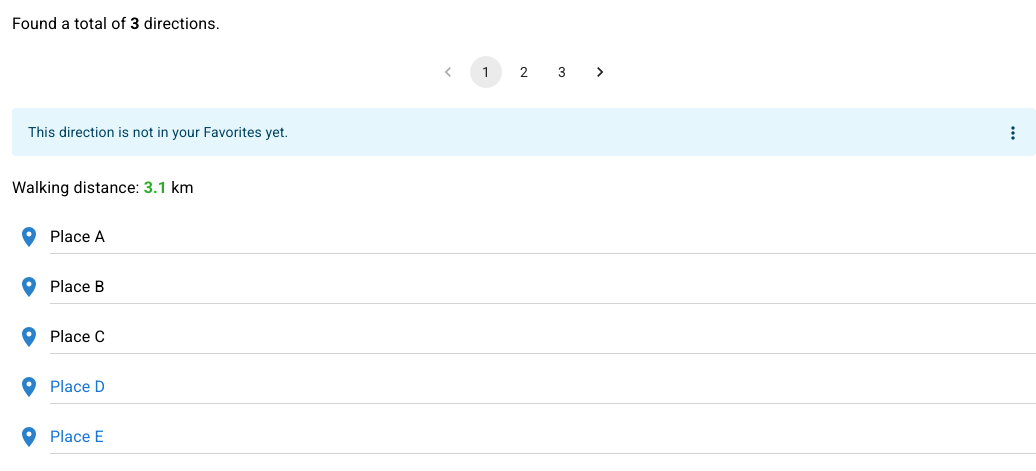
Test case: <ResultDirecsContent /> › control menu has only Save option
This screenshot has width=1036, height=471.
Click the button named "Menu" at (1013, 133), box [998,118,1028,148]
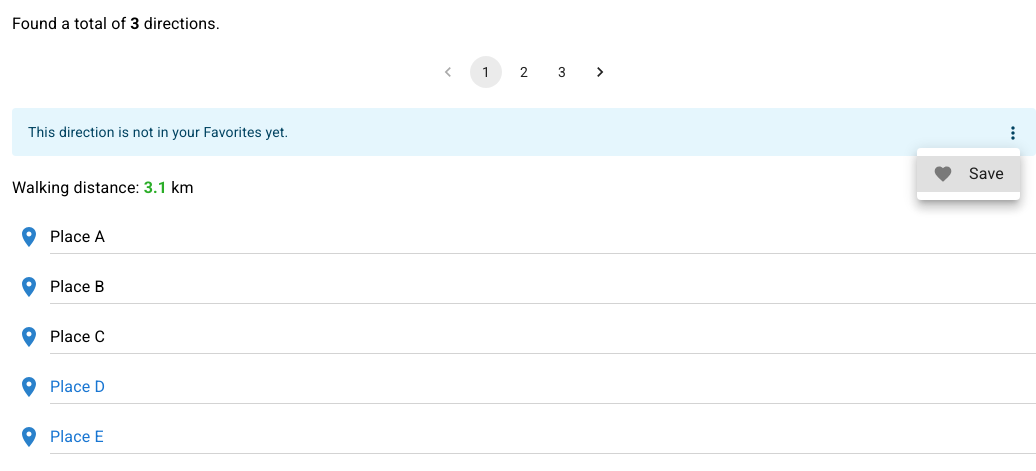
Result: the number of menu items is 1 at [917,156,1020,192]
